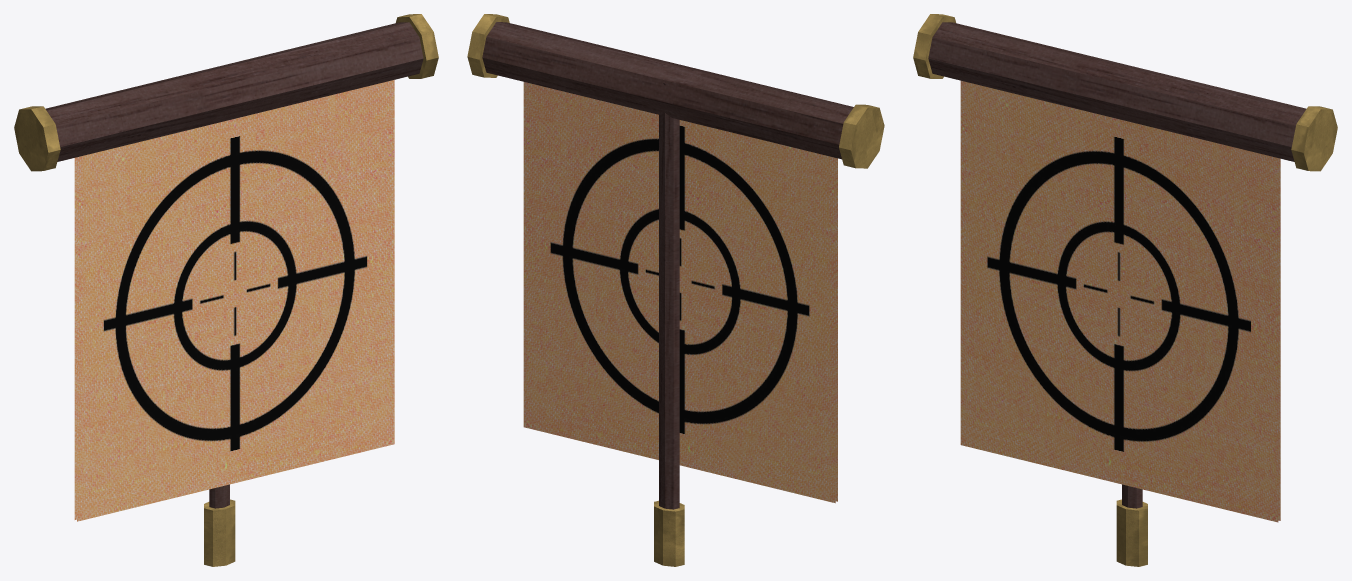
File: flag_target_GEO_01.fbx
3 views of the same model, side by side, from view 1: azimuth 30°, elevation 25°; view 2: azimuth 150°, elevation 25°; view 3: azimuth 330°, elevation 25° (orthographic).
Parts seen in each view (by area): view 1: flag_GEO_01; view 2: flag_GEO_01; view 3: flag_GEO_01.
Boxes of the visible parts, box(x1,y1,x2,y2) form: flag_GEO_01: box(14, 14, 438, 566); flag_GEO_01: box(467, 14, 884, 566); flag_GEO_01: box(913, 14, 1337, 566).
Size of the model in its own units: 1.58 by 1.95 by 0.24.
4 materials, 3 textured.
